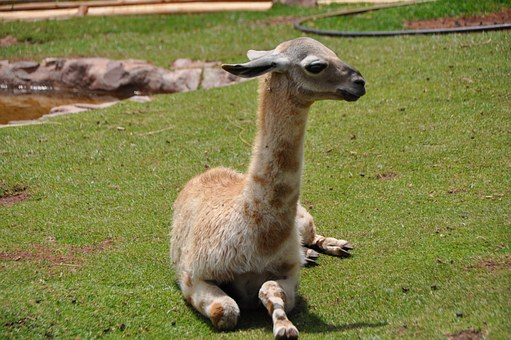alpaca: (171, 36, 366, 340)
